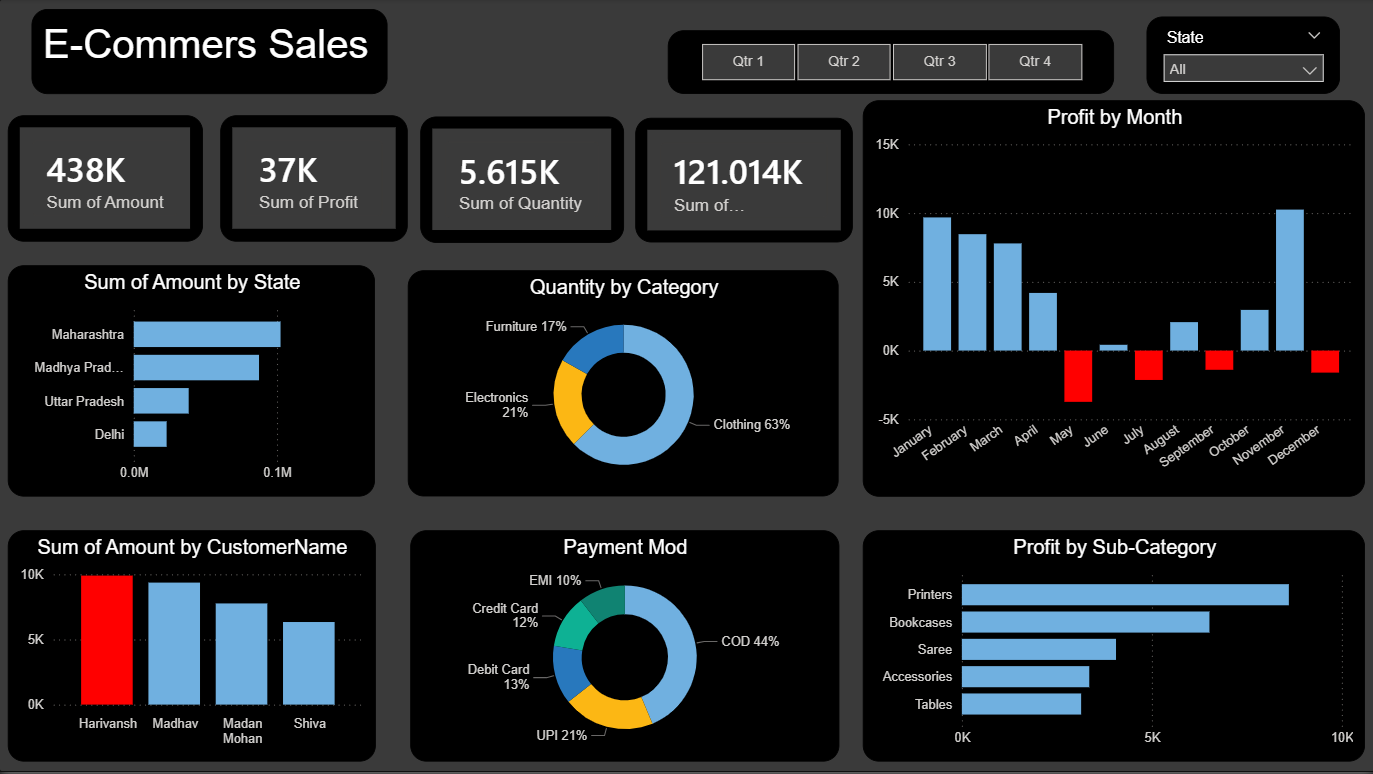

This screenshot's page, from the dashboard's own definition file:
{"tool":"powerbi","page":{"name":"Page 1","canvas":[1280,720],"ordinal":0},"visuals":[{"type":"textbox","box":[30.2,9.3,331.4,79.1],"z":0},{"type":"columnChart","title":"Profit by Month","fields":{"Category":["Orders.Order Date.Variation.Date Hierarchy.Month"],"Y":["Details.Profit"]},"box":[803.5,94.2,467.4,368.6],"z":1000},{"type":"clusteredBarChart","title":"Profit by Sub-Category","fields":{"Category":["Details.Sub-Category"],"Y":["Details.Profit"]},"box":[803.5,494.2,467.4,215.1],"z":2000},{"type":"donutChart","title":"Quantity by Category","fields":{"Category":["Details.Category"],"Y":["Details.Quantity"]},"box":[380.2,252.3,401.2,210.5],"z":3000},{"type":"donutChart","title":"Payment Mod","fields":{"Y":["Details.Quantity"],"Category":["Details.PaymentMode"]},"box":[382.6,494.2,398.8,215.1],"z":4000},{"type":"cardVisual","fields":{"Data":["Details.Amount"]},"box":[8.1,108.1,181.4,117.4],"z":5000},{"type":"cardVisual","fields":{"Data":["Details.Profit"]},"box":[205.8,108.1,174.4,117.4],"z":6000},{"type":"cardVisual","fields":{"Data":["Details.Quantity"]},"box":[391.9,109.3,189.5,117.4],"z":7000},{"type":"cardVisual","fields":{"Data":["Details.AverageOrderValue"]},"box":[591.9,110.5,202.3,116.3],"z":8000},{"type":"clusteredBarChart","fields":{"Category":["Orders.State"],"Y":["Details.Amount"]},"box":[8.1,247.7,341.9,215.1],"z":9000},{"type":"columnChart","fields":{"Category":["Orders.CustomerName"],"Y":["Details.Amount"]},"box":[8,494,342,215],"z":10000},{"type":"slicer","fields":{"Values":["Orders.Order Date.Variation.Date Hierarchy.Quarter"]},"box":[622.1,29.1,415.1,59.3],"z":11000},{"type":"slicer","fields":{"Values":["Orders.State"]},"box":[1067.4,16.3,180.2,72.1],"z":12000}]}

Visuals, with their boxes in screenshot pixels (x1, y1, x2, y2), scaled from the page's 1280x720 canvas onto the 1373x774 screenshot:
textbox: box=[32, 10, 388, 95]
"Profit by Month" columnChart: box=[862, 101, 1363, 498]
"Profit by Sub-Category" clusteredBarChart: box=[862, 531, 1363, 762]
"Quantity by Category" donutChart: box=[408, 271, 838, 498]
"Payment Mod" donutChart: box=[410, 531, 838, 762]
cardVisual - Details.Amount: box=[9, 116, 203, 242]
cardVisual - Details.Profit: box=[221, 116, 408, 242]
cardVisual - Details.Quantity: box=[420, 117, 624, 244]
cardVisual - Details.AverageOrderValue: box=[635, 119, 852, 244]
clusteredBarChart - Orders.State x Details.Amount: box=[9, 266, 375, 498]
columnChart - Orders.CustomerName x Details.Amount: box=[9, 531, 375, 762]
slicer - Orders.Order Date.Variation.Date Hierarchy.Quarter: box=[667, 31, 1113, 95]
slicer - Orders.State: box=[1145, 18, 1338, 95]
